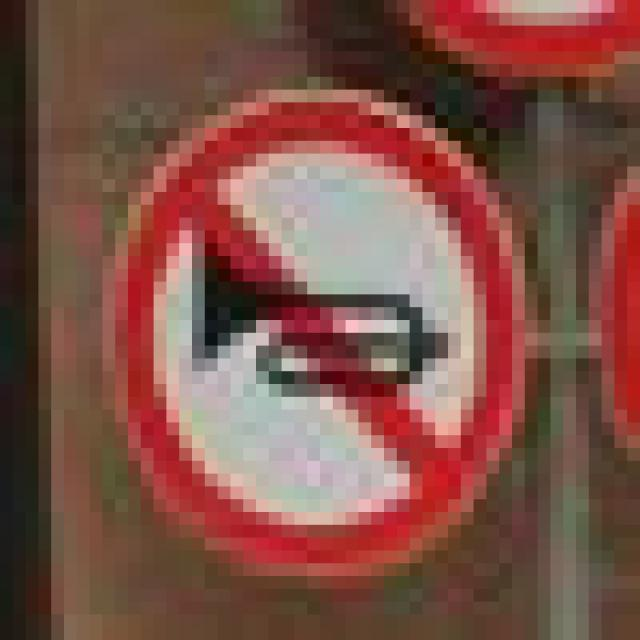HORN_PROHIBITED: (90, 77, 524, 576)
